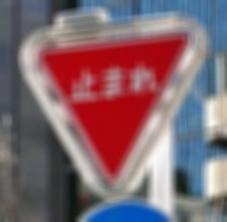Regulatory_sign_triangle: (27, 20, 206, 203)
